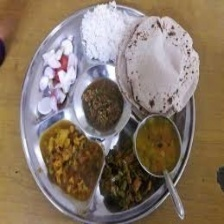roti: (120, 17, 200, 115)
